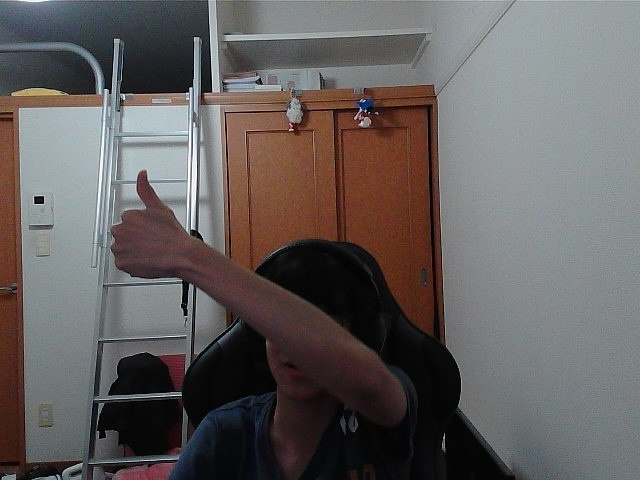thumb_up: (117, 174, 183, 264)
